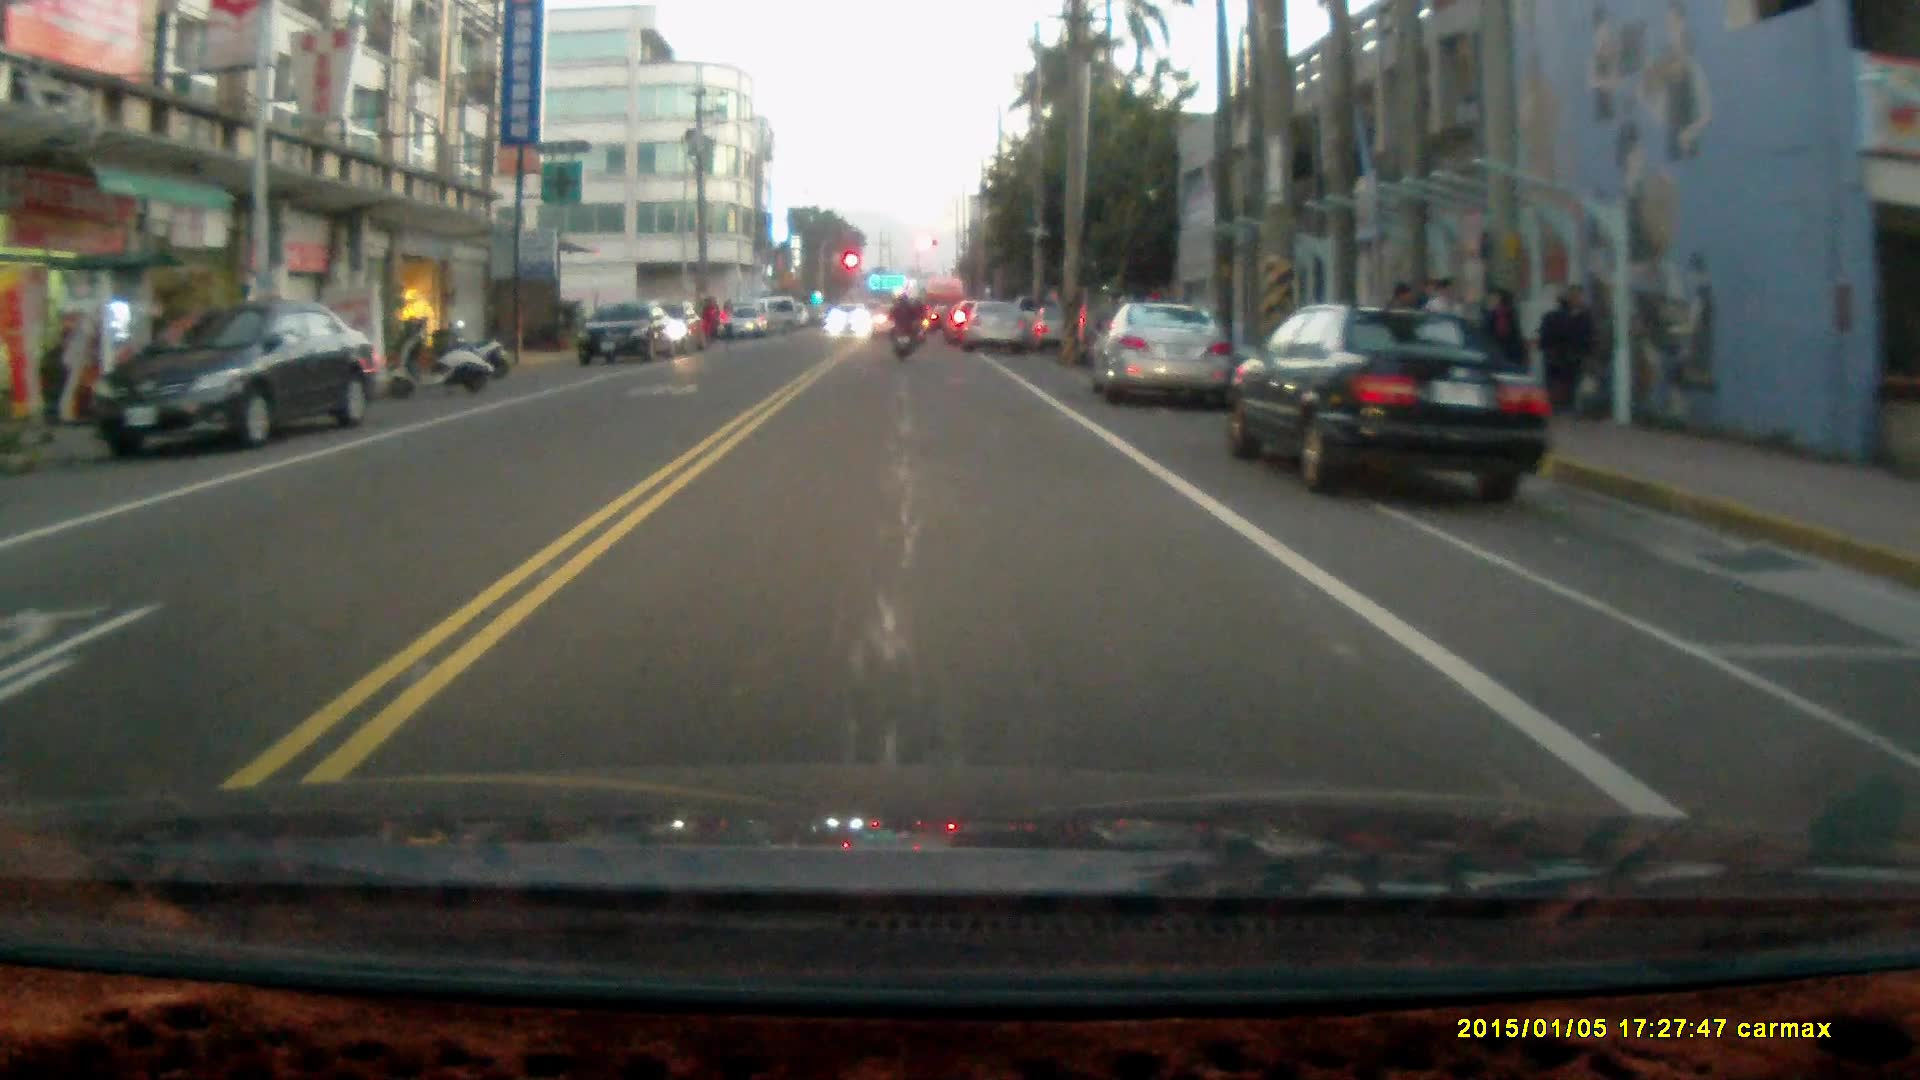pedestrian: (1537, 280, 1595, 419), (1475, 287, 1527, 402), (1423, 273, 1467, 388)
rider: (887, 292, 918, 363)
vehicle: (1218, 299, 1564, 494), (91, 301, 383, 452), (1094, 301, 1236, 409), (579, 303, 683, 367), (968, 300, 1031, 350)
